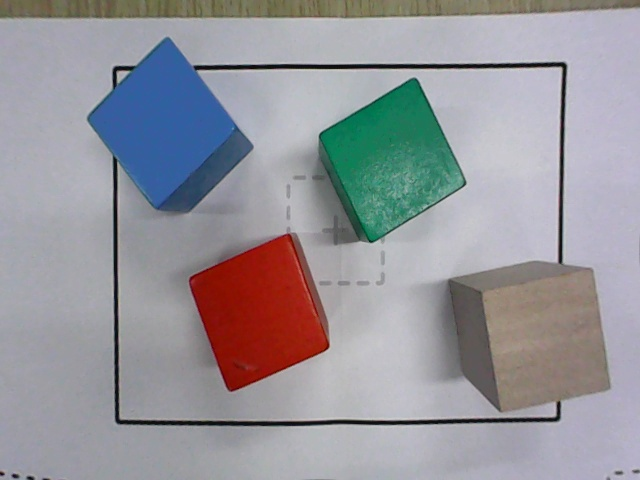upside of big cube: (85, 36, 237, 212), (318, 77, 468, 244), (186, 234, 330, 393), (481, 269, 610, 414)
